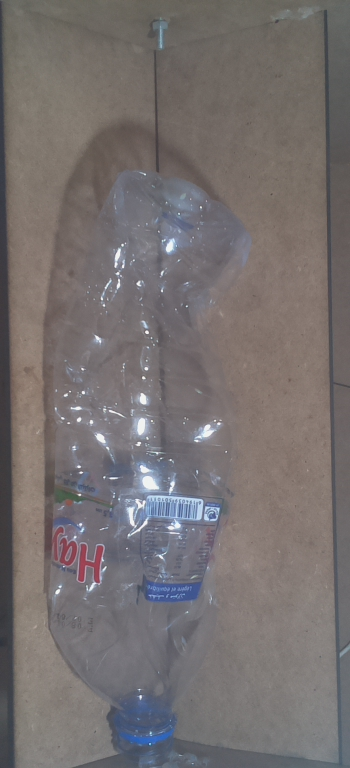Bouteille_1.5L: (40, 158, 257, 766)
